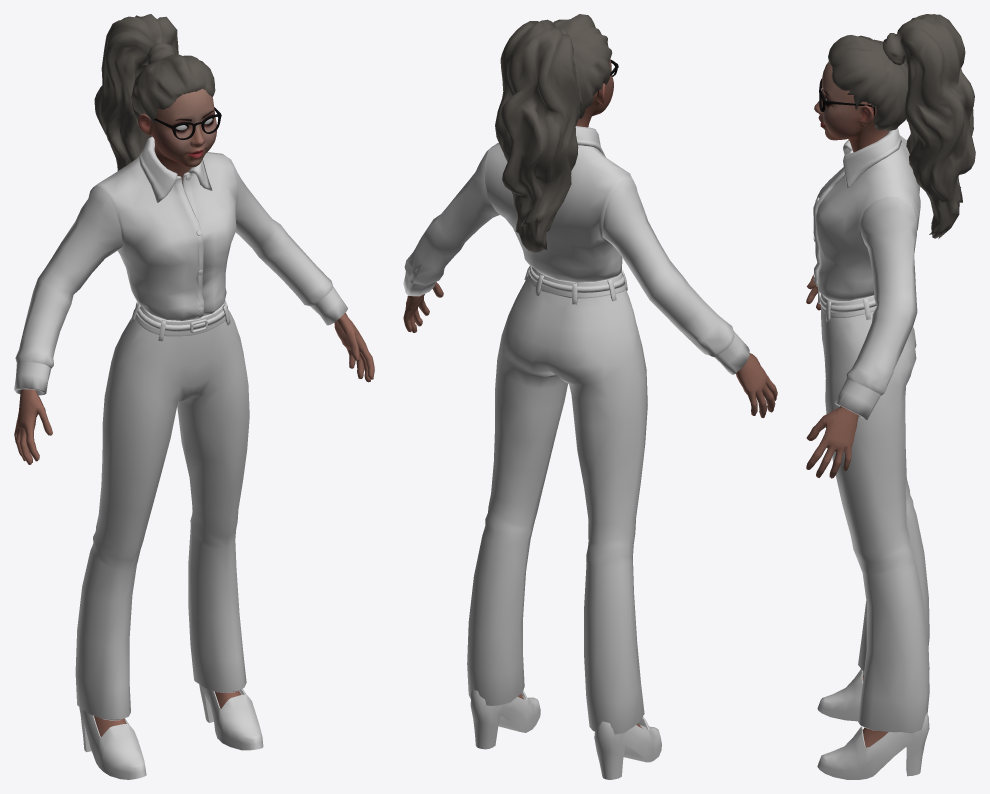
Rendered from AvatarMe.fbx.
The picture shows the model from 3 angles, left to right: view 1: azimuth 30°, elevation 25°; view 2: azimuth 150°, elevation 25°; view 3: azimuth 270°, elevation 25°; orthographic projection. The views are drawn at different scales.
Visible parts, largest first — view 1: Wolf3D_Outfit_Top.001; view 2: Wolf3D_Outfit_Top.001; view 3: Wolf3D_Outfit_Top.001.
Boxes of the visible parts, x1,y1,x2,y2 form: Wolf3D_Outfit_Top.001: (14, 14, 374, 779); Wolf3D_Outfit_Top.001: (403, 14, 777, 779); Wolf3D_Outfit_Top.001: (806, 14, 975, 779).
Size of the model in its own units: 92.79 by 181 by 38.5.
